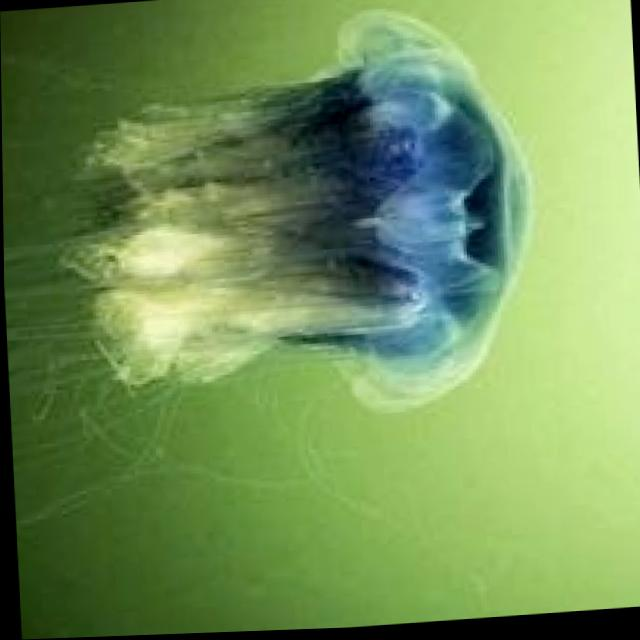Jellyfish: (49, 2, 546, 439)
